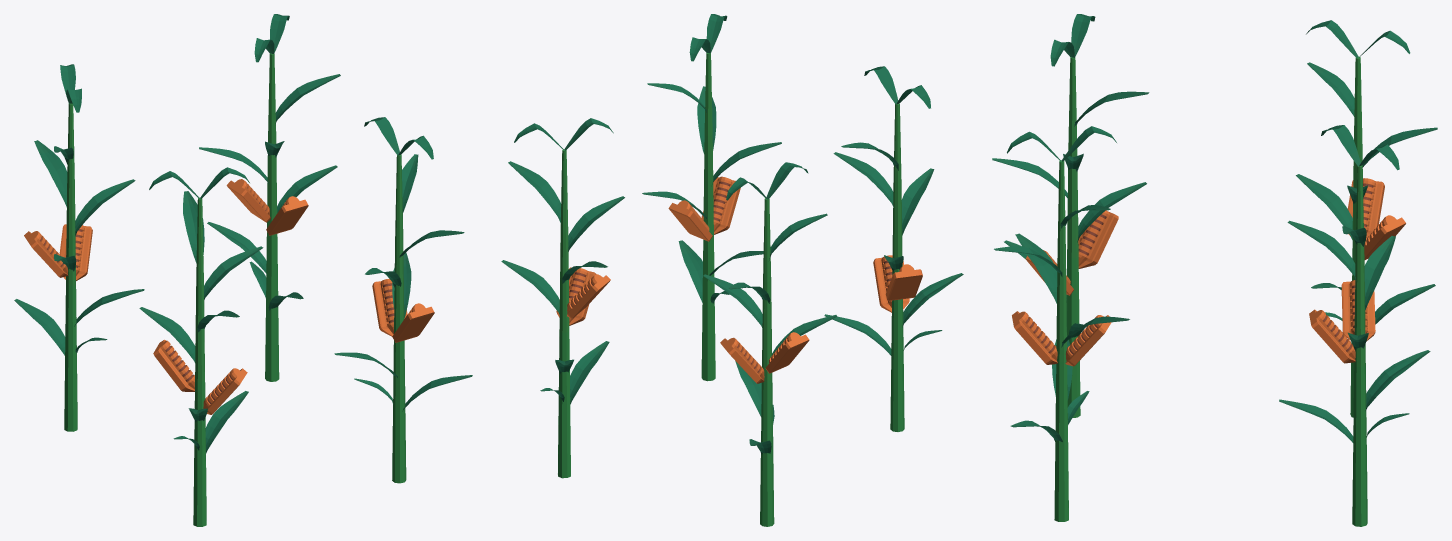
File: Frikankolf6.fbx
3 renders of one model, left to right at view 1: azimuth 30°, elevation 25°; view 2: azimuth 150°, elevation 25°; view 3: azimuth 270°, elevation 25°, orthographic. The views are drawn at different scales.
Visible parts, largest first — view 1: Frikankolf6; view 2: Frikankolf6; view 3: Frikankolf6.
Boxes of the visible parts, left/top/right/bottom form: Frikankolf6: left=14, top=14, right=472, bottom=526; Frikankolf6: left=501, top=14, right=963, bottom=526; Frikankolf6: left=992, top=14, right=1437, bottom=526.
Bounding box in the file's own units: 125 × 137 × 142.
